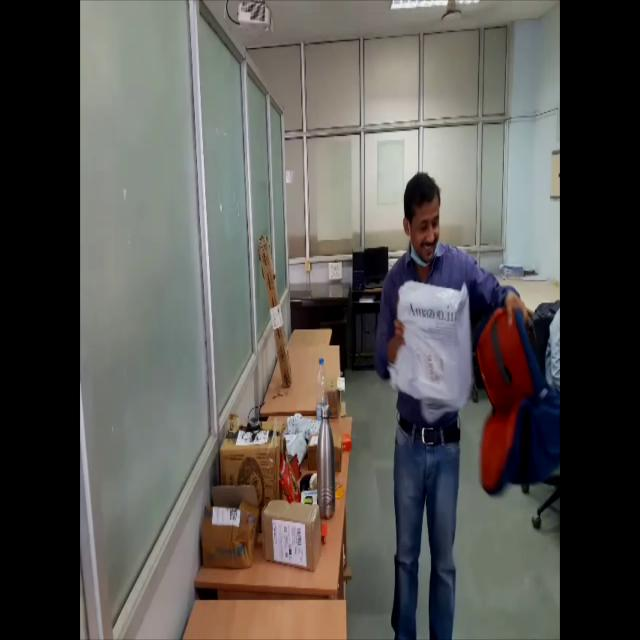shoplifting: (372, 186, 544, 640)
